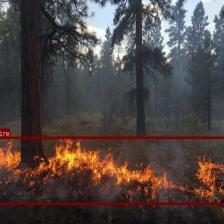fire: (0, 136, 224, 204)
